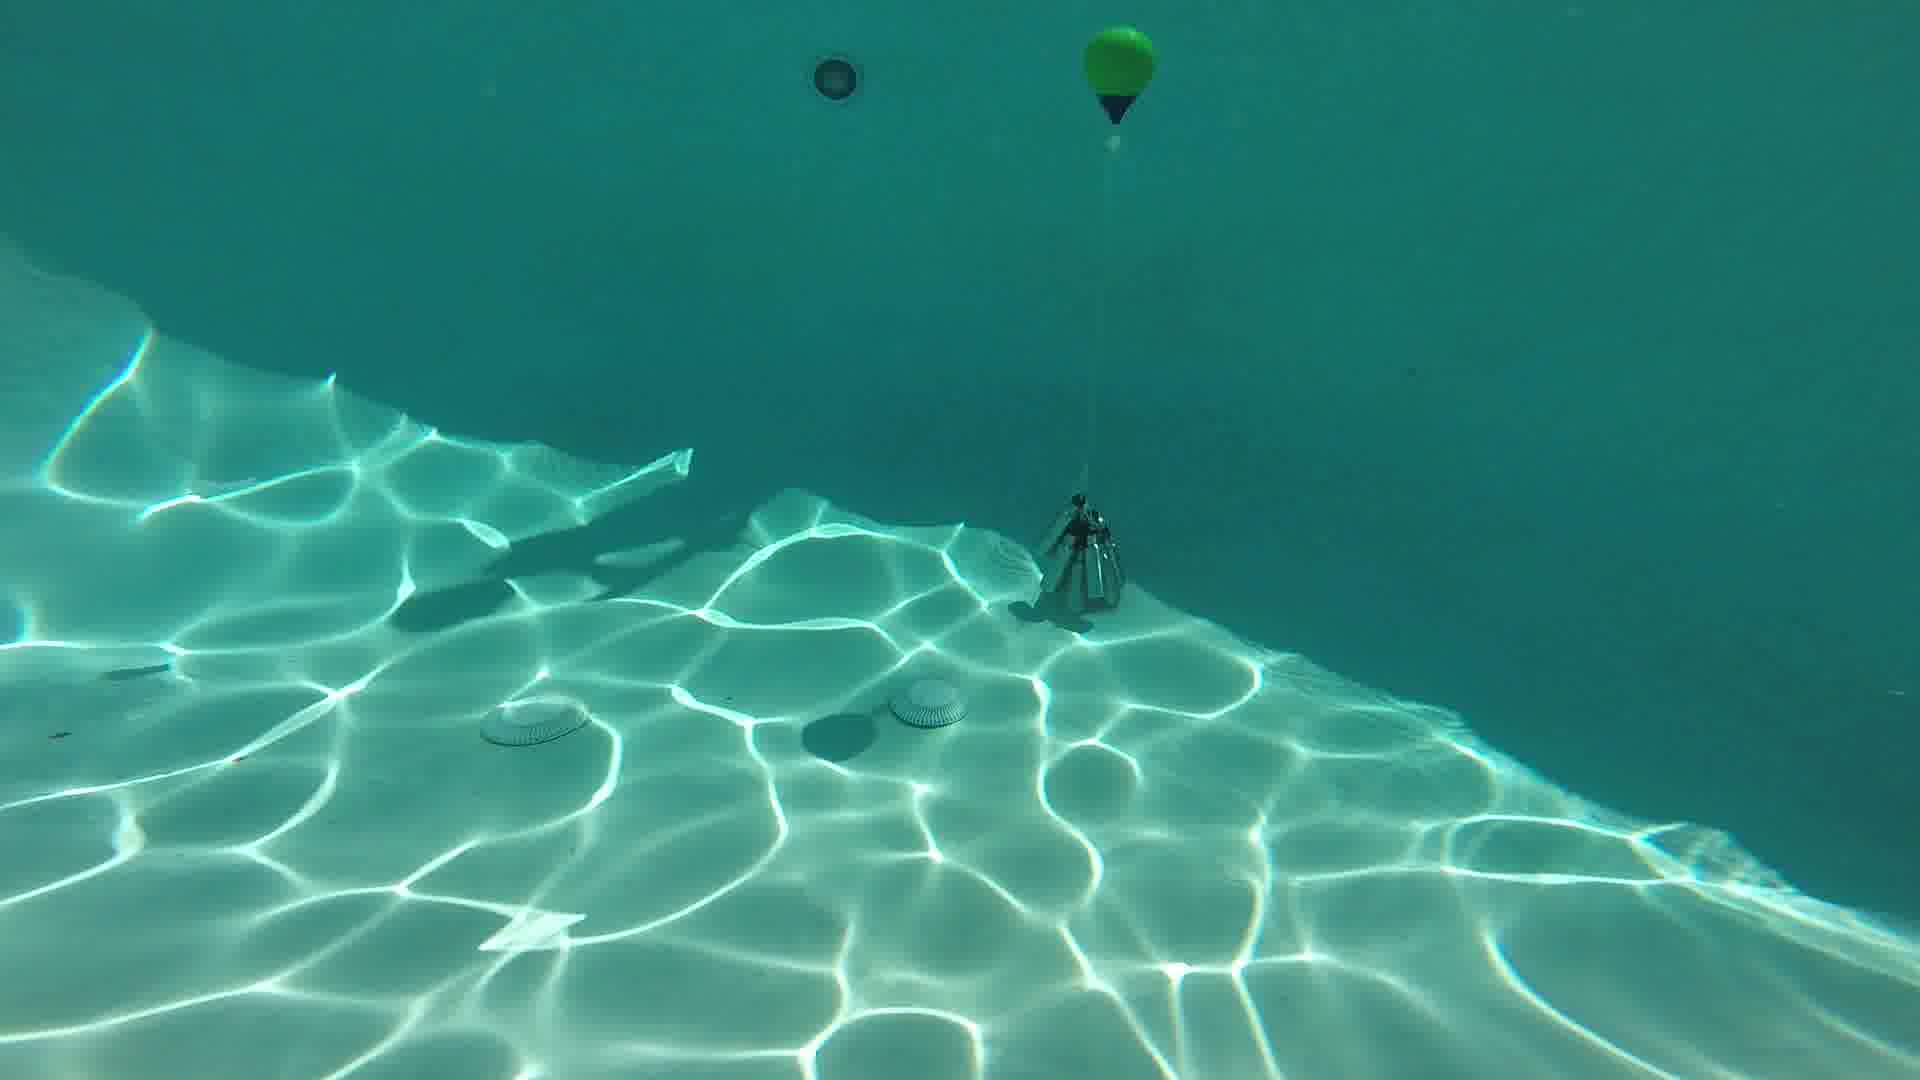yellow_buoy: (1083, 22, 1156, 153)
